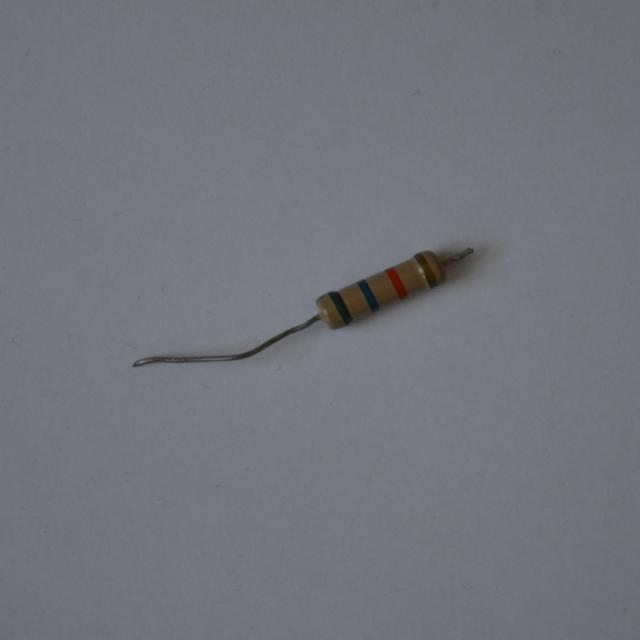blue: (357, 278, 379, 310)
gold: (414, 253, 436, 285)
green: (328, 290, 352, 324)
orange: (386, 268, 407, 296)
resistor: (299, 233, 457, 344)
